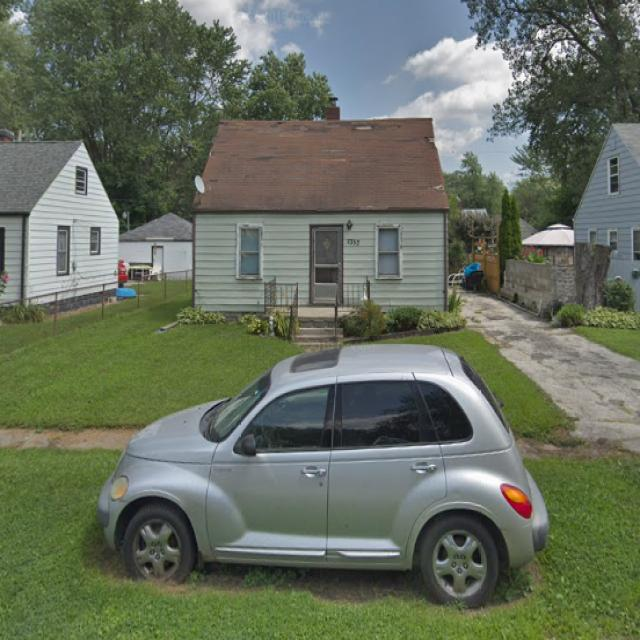House: (192, 120, 450, 322), (0, 140, 121, 320), (572, 124, 640, 316)
